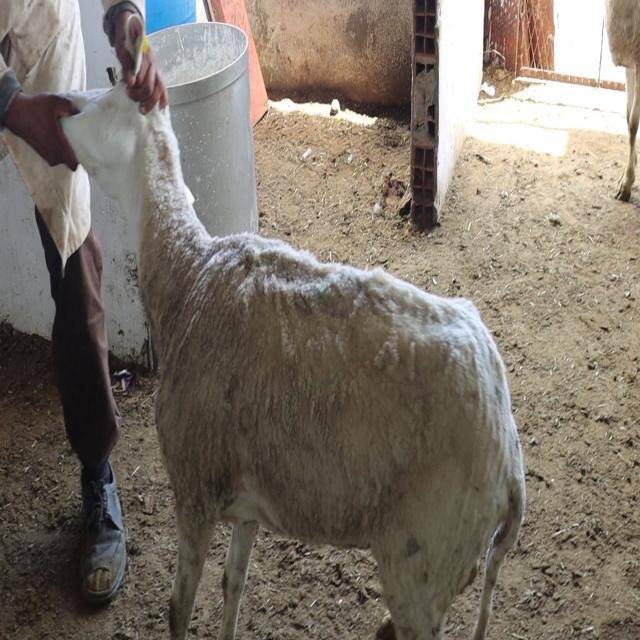Score_1: (60, 84, 526, 639)
